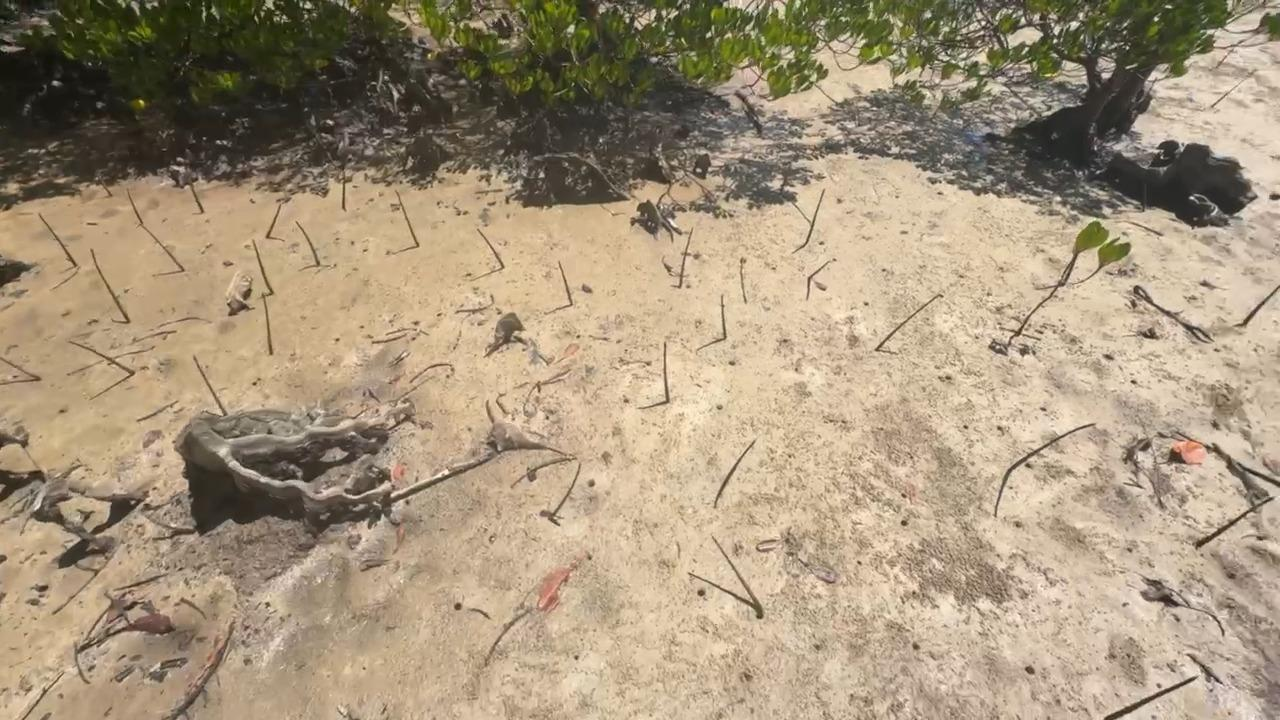Tree: (1006, 423, 1095, 476), (711, 535, 764, 619), (1103, 674, 1198, 720), (1196, 496, 1275, 548), (874, 294, 940, 351), (90, 248, 132, 323), (714, 439, 757, 504), (67, 339, 137, 377), (190, 352, 228, 417), (139, 222, 186, 272), (38, 211, 78, 267), (551, 462, 581, 517), (1241, 284, 1280, 326), (395, 189, 421, 247), (294, 219, 322, 267), (252, 237, 275, 295), (803, 187, 825, 245), (1210, 73, 1244, 109), (477, 227, 506, 269), (0, 354, 42, 382), (679, 226, 694, 288), (261, 292, 274, 355), (124, 187, 144, 224), (557, 260, 573, 306), (188, 178, 205, 214), (266, 202, 283, 238), (663, 340, 671, 403), (807, 260, 832, 280), (97, 172, 113, 197), (721, 294, 727, 339), (341, 166, 346, 211)
